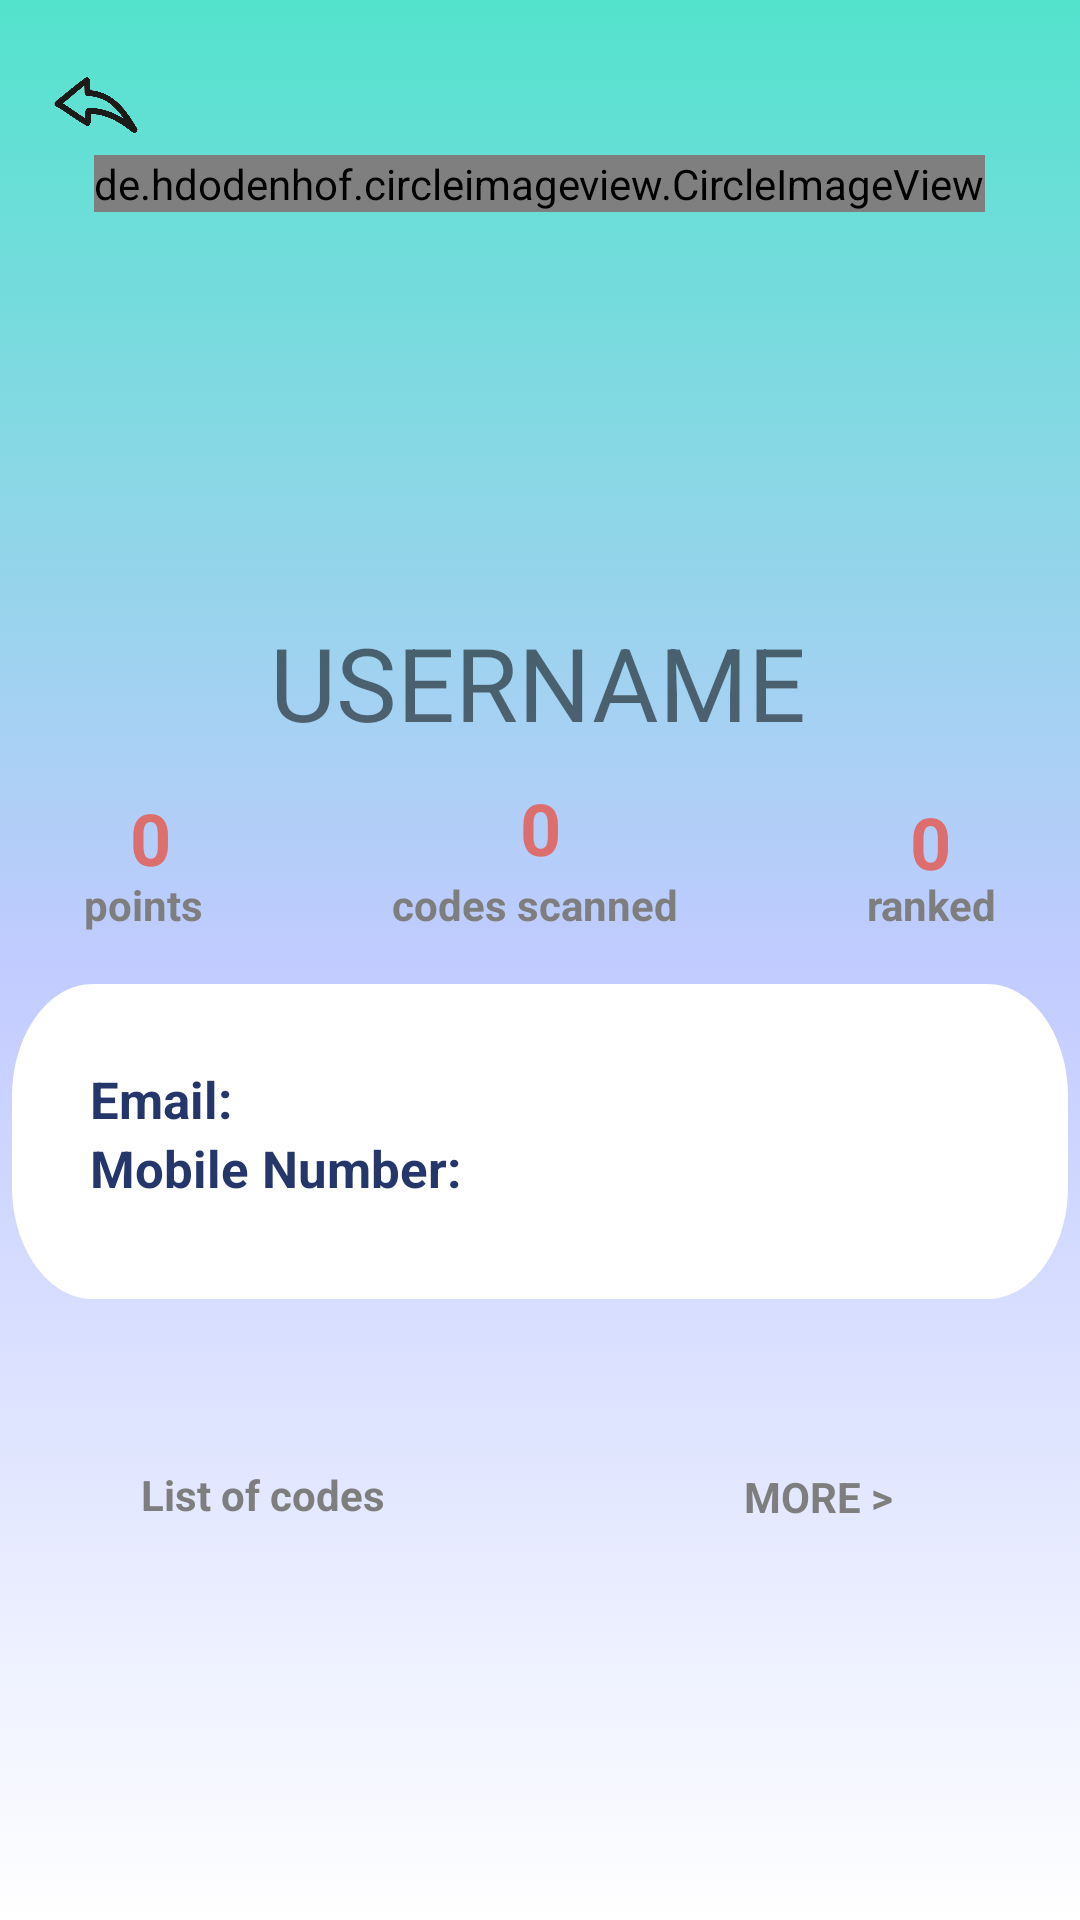

Icons on this 1080px x 1920px Android screen, each with the point to tap as (x=x, y=y):
arrow: (x=96, y=105)
